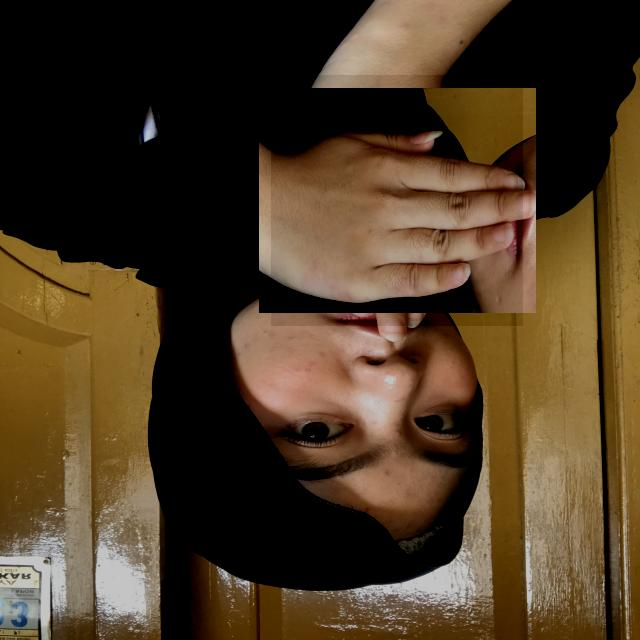ganteng: (271, 75, 523, 326)
